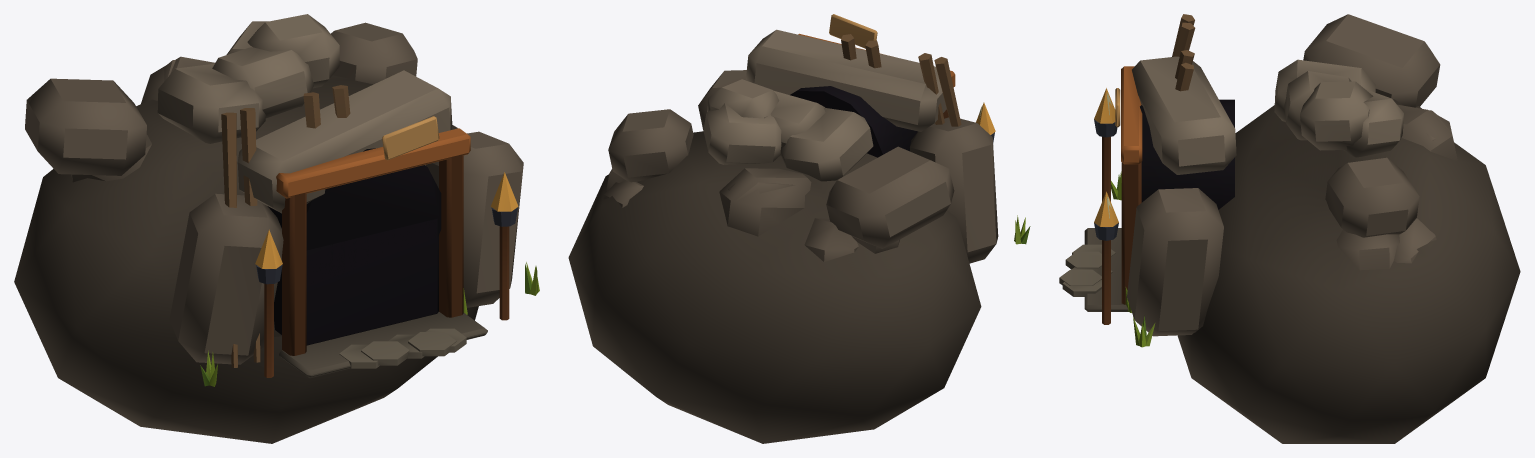
File: cv_wurzel_entry.glb
3 views of the same model, side by side, from view 1: azimuth 30°, elevation 25°; view 2: azimuth 150°, elevation 25°; view 3: azimuth 270°, elevation 25° (orthographic). The views are drawn at different scales.
Visible parts, largest first — view 1: body, pulse_torch_glow_r, pulse_torch_glow_l; view 2: body; view 3: body, pulse_torch_glow_r, pulse_torch_glow_l.
Part boxes in pixels (box(x1,y1,x2,y2)): body: box(14, 14, 539, 443); pulse_torch_glow_r: box(490, 172, 518, 211); pulse_torch_glow_l: box(255, 229, 282, 268); body: box(568, 14, 1030, 443); body: box(1059, 14, 1520, 443); pulse_torch_glow_r: box(1094, 191, 1118, 226); pulse_torch_glow_l: box(1094, 88, 1115, 123).
Size of the model in its own units: 7.06 by 6.33 by 7.35.
